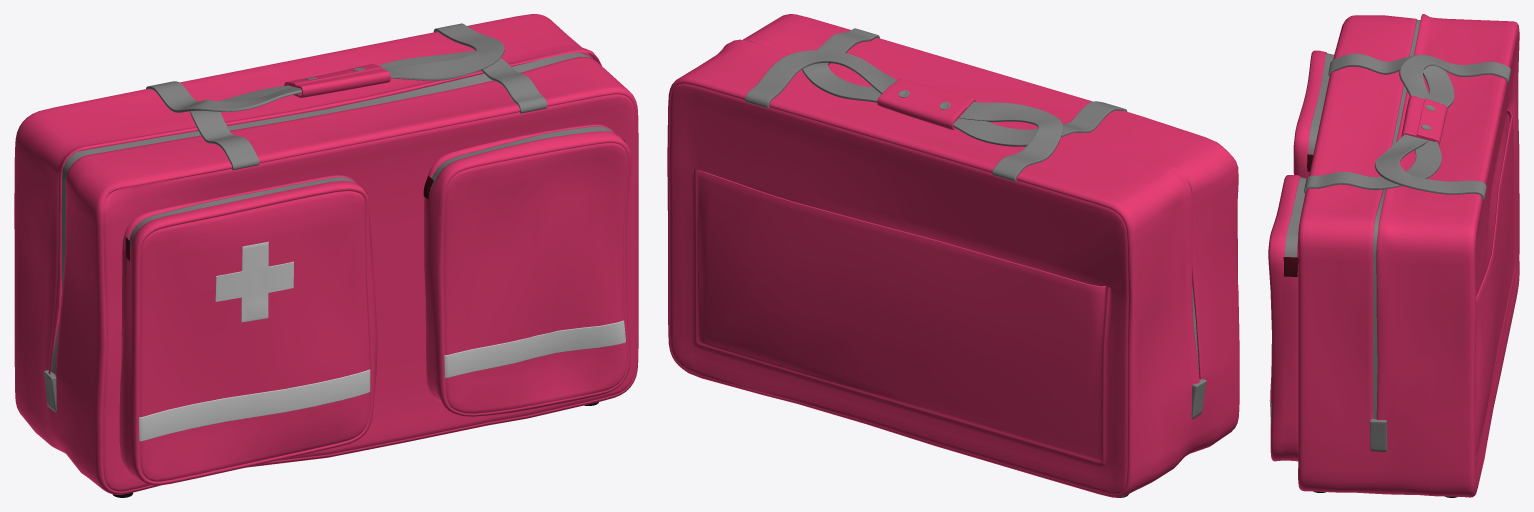
3 renders of one model, left to right at view 1: azimuth 30°, elevation 25°; view 2: azimuth 150°, elevation 25°; view 3: azimuth 270°, elevation 25°, orthographic. The views are drawn at different scales.
Visible parts, largest first — view 1: Archmodels70_052_01, Archmodels70_052_08, Archmodels70_052_06, Archmodels70_052_03, Archmodels70_052_07; view 2: Archmodels70_052_01, Archmodels70_052_06, Archmodels70_052_07; view 3: Archmodels70_052_01, Archmodels70_052_06, Archmodels70_052_03, Archmodels70_052_07, Archmodels70_052_04, Archmodels70_052_02.
Boxes of the visible parts, x1,y1,x2,y2 form: Archmodels70_052_01: (14,14,638,494); Archmodels70_052_08: (139,241,625,441); Archmodels70_052_06: (146,23,547,170); Archmodels70_052_03: (51,52,612,374); Archmodels70_052_07: (284,64,390,97); Archmodels70_052_01: (667,14,1239,497); Archmodels70_052_06: (745,28,1127,181); Archmodels70_052_07: (877,78,975,130); Archmodels70_052_01: (1268,14,1519,497); Archmodels70_052_06: (1304,53,1510,200); Archmodels70_052_03: (1284,20,1420,418); Archmodels70_052_07: (1401,95,1447,145); Archmodels70_052_04: (1370,105,1435,451); Archmodels70_052_02: (1283,154,1313,276).
Bounding box in the file's own units: 16.29 × 9.72 × 7.53.
